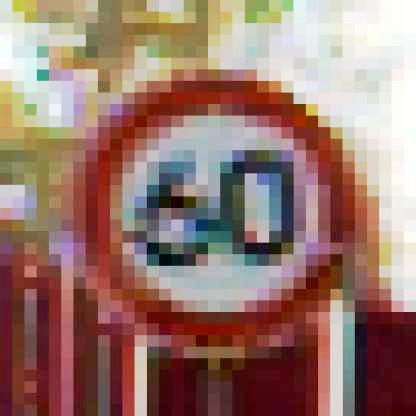Speed Limit -60-: (74, 73, 360, 355)
